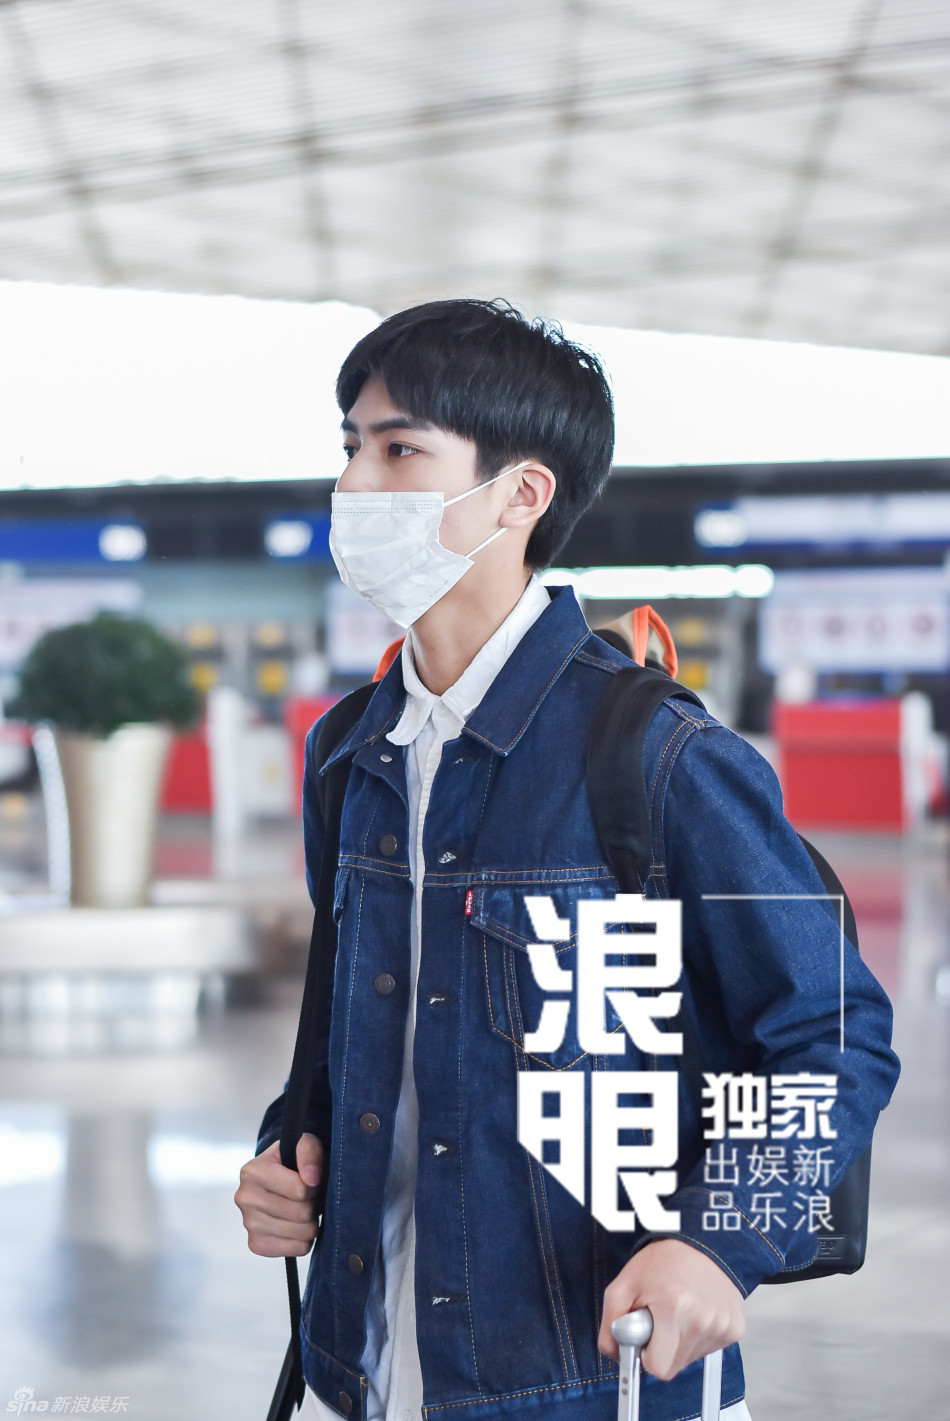face_mask: (329, 342, 502, 618)
